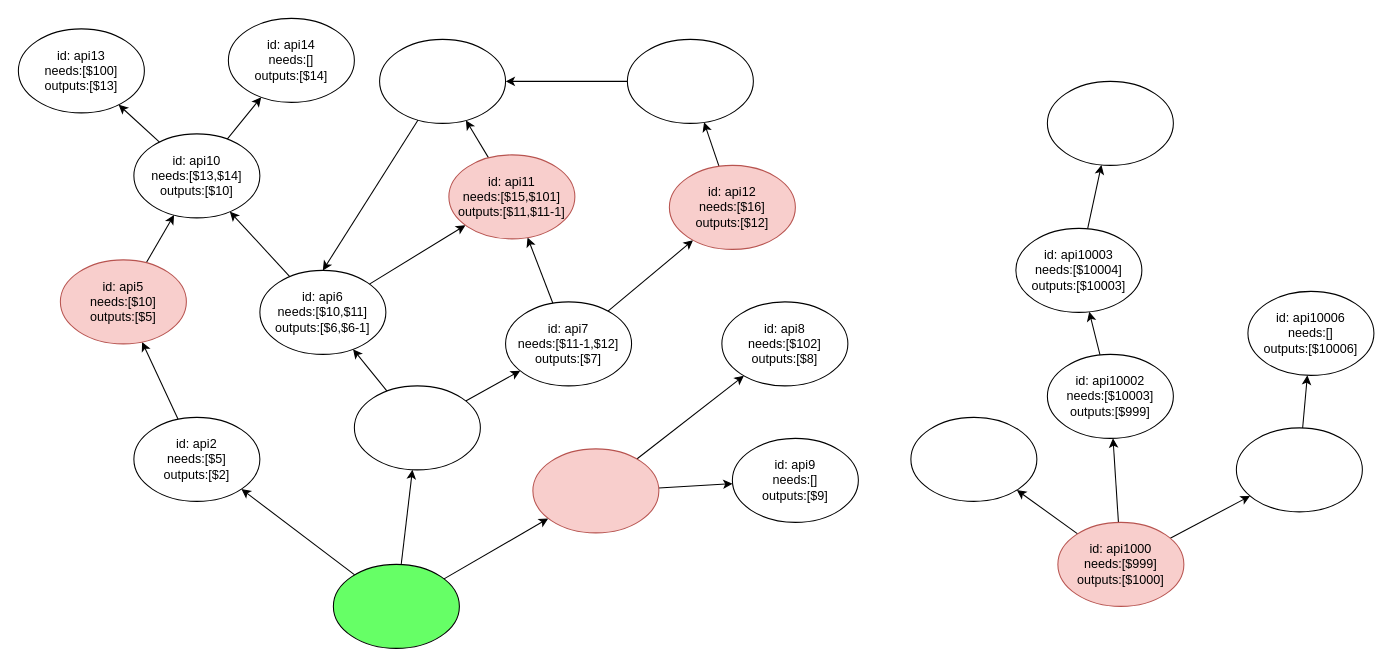
This 1392x667 diagram has some shape labels left out. The centre of each missing label's shape, as x and y in pixels:
id: api1 needs:[$2,$3,$4]: the point at 395,605
id: api10001 needs:[$1999] outputs:[$999]: the point at 973,458
id: api10004 needs:[] outputs:[$10004]: the point at 1109,122
id: api10005 needs:[$10006] outputs:[$999]: the point at 1298,469
id: api15 needs:[$6-1] outputs:[$15]: the point at 442,80
id: api16 needs:[$15] outputs:[$16]: the point at 689,80
id: api3 needs:[$6,$7,$103] outputs:[$3]: the point at 416,427
id: api4 needs:[$8,$9] outputs:[$4]: the point at 595,490
